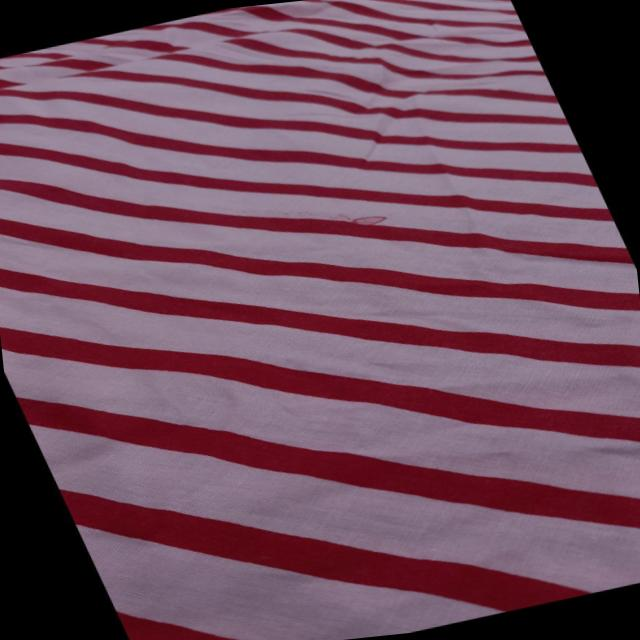color issues: (321, 186, 423, 248)
